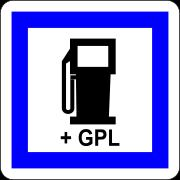Petrol Pump- Gas Station: (13, 15, 158, 163)
